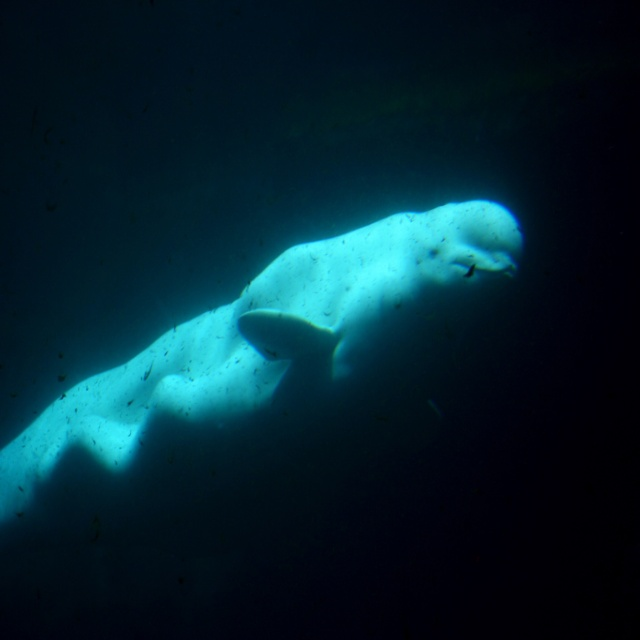Whale: (0, 198, 525, 525)
